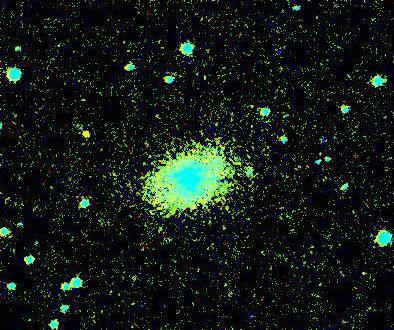star: (71, 124, 101, 154)
